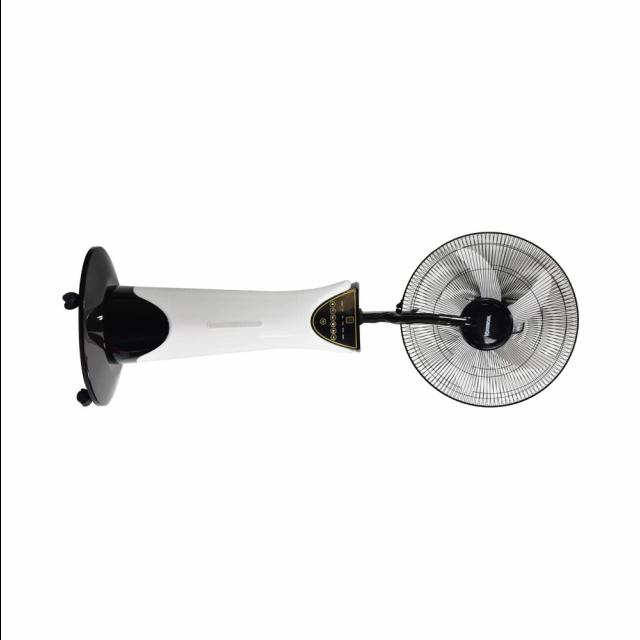fan: (58, 230, 584, 409)
